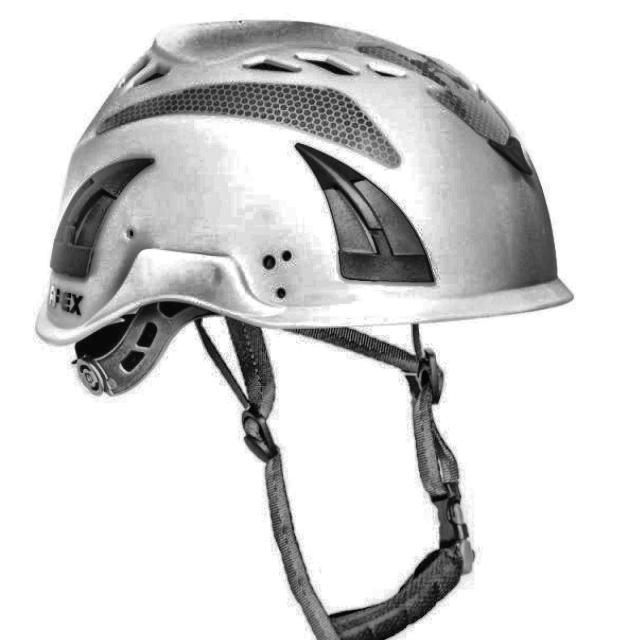Helmet: (30, 14, 588, 640)
